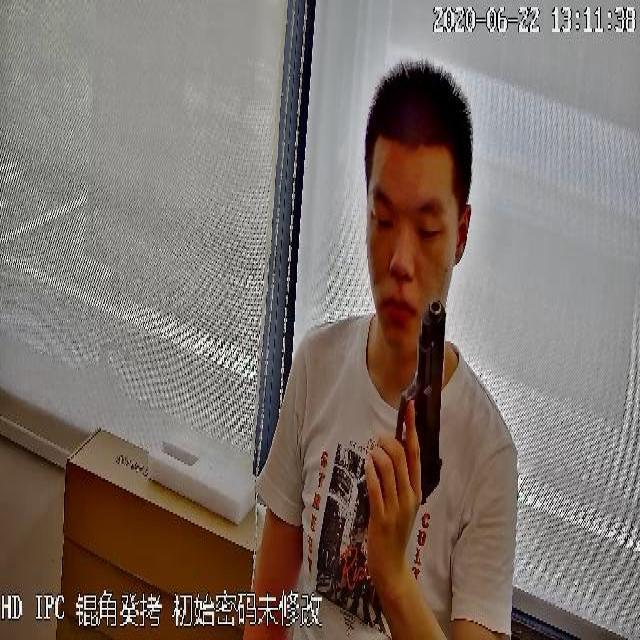pistol: (354, 290, 450, 526)
